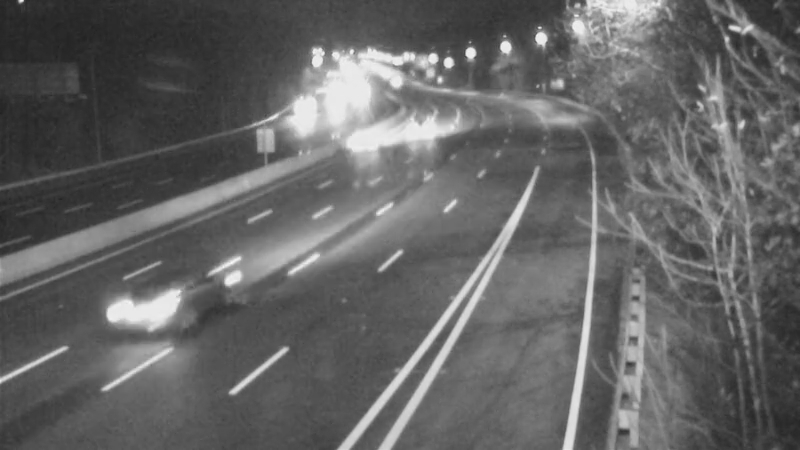vehicle: (90, 257, 200, 367), (369, 56, 419, 106), (402, 100, 452, 150), (349, 118, 399, 168), (275, 87, 325, 137)
